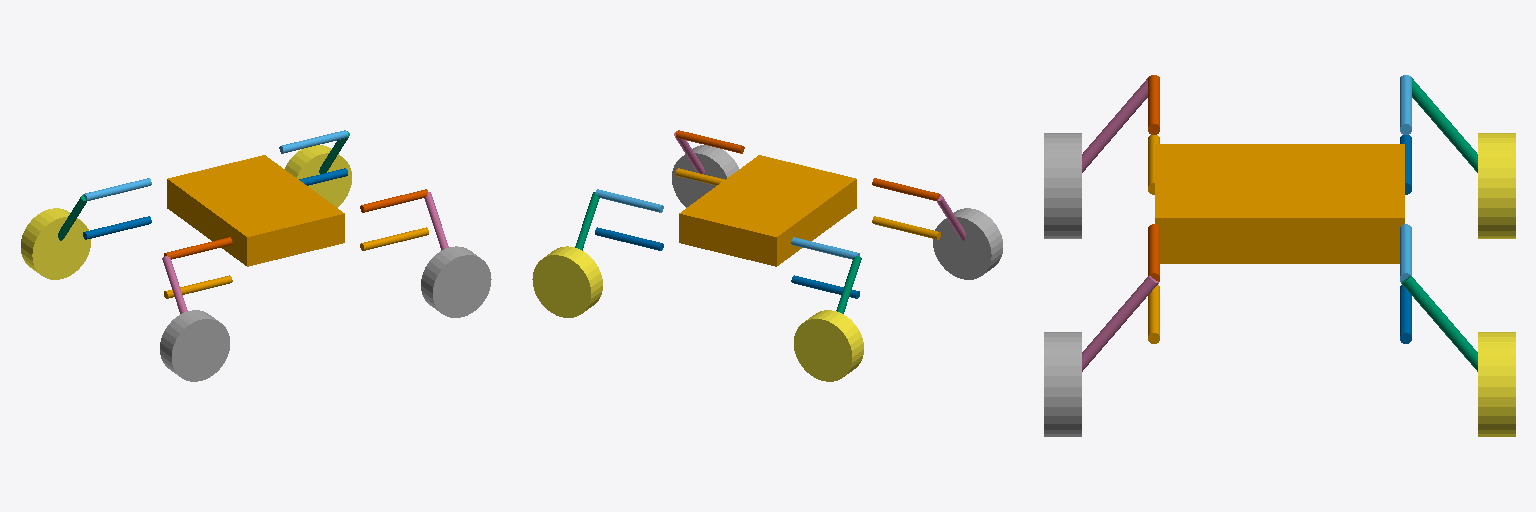
robot.urdf — q8_r5:
<?xml version='1.0' encoding='utf-8'?>
<robot name="q8_r5">
  <link name="chassis">
    <inertial>
      <origin xyz="0.00951572017 0.00478603028 0.00697343503" />
      <mass value="3.4536967088743626" />
      <inertia ixx="0.0315437633" iyy="0.0266222455" izz="0.0468839328" ixy="0" ixz="0" iyz="0" />
    </inertial>
    <visual>
      <origin xyz="0 0 -.025" />
      <geometry>
        <box size="0.166 0.236 0.048" />
      </geometry>
    </visual>
    <collision>
      <origin xyz="0 0 -.025" />
      <geometry>
        <box size="0.166 0.236 0.048" />
      </geometry>
    </collision>
  </link>
  <link name="FL_hip">
    <inertial>
      <origin xyz="0.0248203826 0.00740562072 6.86107305e-19" />
      <mass value="0.07397419543969626" />
      <inertia ixx="1.24277188e-05" iyy="0.000114291818" izz="0.000110535088" ixy="0" ixz="0" iyz="0" />
    </inertial>
    <visual>
      <origin xyz="0.055 0 0" rpy="0 1.57079633 0" />
      <geometry>
        <cylinder radius=".006" length="0.11" />
      </geometry>
    </visual>
  </link>
  <joint name="FL_hip" type="revolute">
    <origin xyz="0.112 0.119 0" />
    <parent link="chassis" />
    <child link="FL_hip" />
    <axis xyz="0 1 0" />
    <limit effort="5.2" velocity="24.3" lower="-.628318531" upper=".383972435" />
  </joint>
  <link name="FL_carrier">
    <inertial>
      <origin xyz="0.000282604071 -0.00167578647 -0.104258715" />
      <mass value="0.3951598614160262" />
      <inertia ixx="0.000932743658" iyy="0.00047375203" izz="0.000597853375" ixy="0" ixz="0" iyz="0" />
    </inertial>
    <visual>
      <origin xyz="0 0.043 -0.055" rpy="0 2.47803693 1.57079633" />
      <geometry>
        <cylinder radius=".006" length="0.1396280774056565" />
      </geometry>
    </visual>
  </link>
  <joint name="FL_carrier" type="revolute">
    <origin xyz="0.11 0 0" />
    <parent link="FL_hip" />
    <child link="FL_carrier" />
    <axis xyz="0 1 0" />
    <limit effort="0" velocity="24.3" lower="-.383972435" upper=".628318531" />
    <mimic joint="FL_hip" multiplier="-1" />
  </joint>
  <link name="FL_wheel">
    <inertial>
      <origin xyz="5.88219239e-18 -0.0155648009 0" />
      <mass value="0.1398282452833074" />
      <inertia ixx="0.000151319597" iyy="0.000108728145" izz="0.000151271597" ixy="0" ixz="0" iyz="0" />
    </inertial>
    <visual>
      <origin xyz="0 0 0" rpy="1.570796327 0 0" />
      <geometry>
        <cylinder radius=".05" length=".035" />
      </geometry>
    </visual>
    <collision>
      <origin xyz="0 0 0" rpy="1.570796327 0 0" />
      <geometry>
        <cylinder radius=".05" length=".035" />
      </geometry>
    </collision>
  </link>
  <joint name="FL_wheel" type="continuous">
    <origin xyz="0 0.086 -0.11" />
    <parent link="FL_carrier" />
    <child link="FL_wheel" />
    <axis xyz="0 1 0" />
    <limit effort="1" velocity="12.78" />
  </joint>
  <link name="FL_follower">
    <inertial>
      <origin xyz="0.055 0.013 8.31682587e-19" />
      <mass value="0.02761352064237935" />
      <inertia ixx="1.27993423e-06" iyy="4.20126029e-05" izz="4.11928941e-05" ixy="0" ixz="0" iyz="0" />
    </inertial>
    <visual>
      <origin xyz="0.055 0 0" rpy="0 1.57079633 0" />
      <geometry>
        <cylinder radius=".006" length="0.11" />
      </geometry>
    </visual>
  </link>
  <joint name="FL_follower" type="revolute">
    <origin xyz="0.112 0.119 -0.062" />
    <parent link="chassis" />
    <child link="FL_follower" />
    <axis xyz="0 1 0" />
    <limit effort="0" velocity="24.3" lower="-.628318531" upper=".383972435" />
    <mimic joint="FL_hip" multiplier="1" />
  </joint>
  <link name="FR_hip">
    <inertial>
      <origin xyz="0.0248203826 -0.00740562072 6.86107305e-19" />
      <mass value="0.07397419543969626" />
      <inertia ixx="1.24277188e-05" iyy="0.000114291818" izz="0.000110535088" ixy="0" ixz="0" iyz="0" />
    </inertial>
    <visual>
      <origin xyz="0.055 0 0" rpy="0 1.57079633 0" />
      <geometry>
        <cylinder radius=".006" length="0.11" />
      </geometry>
    </visual>
  </link>
  <joint name="FR_hip" type="revolute">
    <origin xyz="0.112 -0.119 0" />
    <parent link="chassis" />
    <child link="FR_hip" />
    <axis xyz="0 1 0" />
    <limit effort="5.2" velocity="24.3" lower="-.628318531" upper=".383972435" />
  </joint>
  <link name="FR_carrier">
    <inertial>
      <origin xyz="0.000282604071 0.00167578647 -0.104258715" />
      <mass value="0.3951598614160262" />
      <inertia ixx="0.000932743658" iyy="0.00047375203" izz="0.000597853375" ixy="0" ixz="0" iyz="0" />
    </inertial>
    <visual>
      <origin xyz="0 -0.043 -0.055" rpy="0 2.47803693 -1.57079633" />
      <geometry>
        <cylinder radius=".006" length="0.1396280774056565" />
      </geometry>
    </visual>
  </link>
  <joint name="FR_carrier" type="revolute">
    <origin xyz="0.11 0 0" />
    <parent link="FR_hip" />
    <child link="FR_carrier" />
    <axis xyz="0 1 0" />
    <limit effort="0" velocity="24.3" lower="-.383972435" upper=".628318531" />
    <mimic joint="FR_hip" multiplier="-1" />
  </joint>
  <link name="FR_wheel">
    <inertial>
      <origin xyz="5.88219239e-18 0.0155648009 0" />
      <mass value="0.1398282452833074" />
      <inertia ixx="0.000151319597" iyy="0.000108728145" izz="0.000151271597" ixy="0" ixz="0" iyz="0" />
    </inertial>
    <visual>
      <origin xyz="0 0 0" rpy="1.570796327 0 0" />
      <geometry>
        <cylinder radius=".05" length=".035" />
      </geometry>
    </visual>
    <collision>
      <origin xyz="0 0 0" rpy="1.570796327 0 0" />
      <geometry>
        <cylinder radius=".05" length=".035" />
      </geometry>
    </collision>
  </link>
  <joint name="FR_wheel" type="continuous">
    <origin xyz="0 -0.086 -0.11" />
    <parent link="FR_carrier" />
    <child link="FR_wheel" />
    <axis xyz="0 1 0" />
    <limit effort="1" velocity="12.78" />
  </joint>
  <link name="FR_follower">
    <inertial>
      <origin xyz="0.055 -0.013 8.31682587e-19" />
      <mass value="0.02761352064237935" />
      <inertia ixx="1.27993423e-06" iyy="4.20126029e-05" izz="4.11928941e-05" ixy="0" ixz="0" iyz="0" />
    </inertial>
    <visual>
      <origin xyz="0.055 0 0" rpy="0 1.57079633 0" />
      <geometry>
        <cylinder radius=".006" length="0.11" />
      </geometry>
    </visual>
  </link>
  <joint name="FR_follower" type="revolute">
    <origin xyz="0.112 -0.119 -0.062" />
    <parent link="chassis" />
    <child link="FR_follower" />
    <axis xyz="0 1 0" />
    <limit effort="0" velocity="24.3" lower="-.628318531" upper=".383972435" />
    <mimic joint="FR_hip" multiplier="1" />
  </joint>
  <link name="RL_hip">
    <inertial>
      <origin xyz="-0.0248203826 0.00740562072 6.86107305e-19" />
      <mass value="0.07397419543969626" />
      <inertia ixx="1.24277188e-05" iyy="0.000114291818" izz="0.000110535088" ixy="0" ixz="0" iyz="0" />
    </inertial>
    <visual>
      <origin xyz="-0.055 0 0" rpy="0 1.57079633 3.14159265" />
      <geometry>
        <cylinder radius=".006" length="0.11" />
      </geometry>
    </visual>
  </link>
  <joint name="RL_hip" type="revolute">
    <origin xyz="-0.112 0.119 0" />
    <parent link="chassis" />
    <child link="RL_hip" />
    <axis xyz="0 -1 0" />
    <limit effort="5.2" velocity="24.3" lower="-.628318531" upper=".383972435" />
  </joint>
  <link name="RL_carrier">
    <inertial>
      <origin xyz="-0.000282604071 -0.00167578647 -0.104258715" />
      <mass value="0.3951598614160262" />
      <inertia ixx="0.000932743658" iyy="0.00047375203" izz="0.000597853375" ixy="0" ixz="0" iyz="0" />
    </inertial>
    <visual>
      <origin xyz="0 0.043 -0.055" rpy="0 2.47803693 1.57079633" />
      <geometry>
        <cylinder radius=".006" length="0.1396280774056565" />
      </geometry>
    </visual>
  </link>
  <joint name="RL_carrier" type="revolute">
    <origin xyz="-0.11 0 0" />
    <parent link="RL_hip" />
    <child link="RL_carrier" />
    <axis xyz="0 -1 0" />
    <limit effort="0" velocity="24.3" lower="-.383972435" upper=".628318531" />
    <mimic joint="RL_hip" multiplier="-1" />
  </joint>
  <link name="RL_wheel">
    <inertial>
      <origin xyz="-5.88219239e-18 -0.0155648009 0" />
      <mass value="0.1398282452833074" />
      <inertia ixx="0.000151319597" iyy="0.000108728145" izz="0.000151271597" ixy="0" ixz="0" iyz="0" />
    </inertial>
    <visual>
      <origin xyz="0 0 0" rpy="1.570796327 0 0" />
      <geometry>
        <cylinder radius=".05" length=".035" />
      </geometry>
    </visual>
    <collision>
      <origin xyz="0 0 0" rpy="1.570796327 0 0" />
      <geometry>
        <cylinder radius=".05" length=".035" />
      </geometry>
    </collision>
  </link>
  <joint name="RL_wheel" type="continuous">
    <origin xyz="0 0.086 -0.11" />
    <parent link="RL_carrier" />
    <child link="RL_wheel" />
    <axis xyz="0 1 0" />
    <limit effort="1" velocity="12.78" />
  </joint>
  <link name="RL_follower">
    <inertial>
      <origin xyz="-0.055 0.013 8.31682587e-19" />
      <mass value="0.02761352064237935" />
      <inertia ixx="1.27993423e-06" iyy="4.20126029e-05" izz="4.11928941e-05" ixy="0" ixz="0" iyz="0" />
    </inertial>
    <visual>
      <origin xyz="-0.055 0 0" rpy="0 1.57079633 3.14159265" />
      <geometry>
        <cylinder radius=".006" length="0.11" />
      </geometry>
    </visual>
  </link>
  <joint name="RL_follower" type="revolute">
    <origin xyz="-0.112 0.119 -0.062" />
    <parent link="chassis" />
    <child link="RL_follower" />
    <axis xyz="0 -1 0" />
    <limit effort="0" velocity="24.3" lower="-.628318531" upper=".383972435" />
    <mimic joint="RL_hip" multiplier="1" />
  </joint>
  <link name="RR_hip">
    <inertial>
      <origin xyz="-0.0248203826 -0.00740562072 6.86107305e-19" />
      <mass value="0.07397419543969626" />
      <inertia ixx="1.24277188e-05" iyy="0.000114291818" izz="0.000110535088" ixy="0" ixz="0" iyz="0" />
    </inertial>
    <visual>
      <origin xyz="-0.055 0 0" rpy="0 1.57079633 3.14159265" />
      <geometry>
        <cylinder radius=".006" length="0.11" />
      </geometry>
    </visual>
  </link>
  <joint name="RR_hip" type="revolute">
    <origin xyz="-0.112 -0.119 0" />
    <parent link="chassis" />
    <child link="RR_hip" />
    <axis xyz="0 -1 0" />
    <limit effort="5.2" velocity="24.3" lower="-.628318531" upper=".383972435" />
  </joint>
  <link name="RR_carrier">
    <inertial>
      <origin xyz="-0.000282604071 0.00167578647 -0.104258715" />
      <mass value="0.3951598614160262" />
      <inertia ixx="0.000932743658" iyy="0.00047375203" izz="0.000597853375" ixy="0" ixz="0" iyz="0" />
    </inertial>
    <visual>
      <origin xyz="0 -0.043 -0.055" rpy="0 2.47803693 -1.57079633" />
      <geometry>
        <cylinder radius=".006" length="0.1396280774056565" />
      </geometry>
    </visual>
  </link>
  <joint name="RR_carrier" type="revolute">
    <origin xyz="-0.11 0 0" />
    <parent link="RR_hip" />
    <child link="RR_carrier" />
    <axis xyz="0 -1 0" />
    <limit effort="0" velocity="24.3" lower="-.383972435" upper=".628318531" />
    <mimic joint="RR_hip" multiplier="-1" />
  </joint>
  <link name="RR_wheel">
    <inertial>
      <origin xyz="-5.88219239e-18 0.0155648009 0" />
      <mass value="0.1398282452833074" />
      <inertia ixx="0.000151319597" iyy="0.000108728145" izz="0.000151271597" ixy="0" ixz="0" iyz="0" />
    </inertial>
    <visual>
      <origin xyz="0 0 0" rpy="1.570796327 0 0" />
      <geometry>
        <cylinder radius=".05" length=".035" />
      </geometry>
    </visual>
    <collision>
      <origin xyz="0 0 0" rpy="1.570796327 0 0" />
      <geometry>
        <cylinder radius=".05" length=".035" />
      </geometry>
    </collision>
  </link>
  <joint name="RR_wheel" type="continuous">
    <origin xyz="0 -0.086 -0.11" />
    <parent link="RR_carrier" />
    <child link="RR_wheel" />
    <axis xyz="0 1 0" />
    <limit effort="1" velocity="12.78" />
  </joint>
  <link name="RR_follower">
    <inertial>
      <origin xyz="-0.055 -0.013 8.31682587e-19" />
      <mass value="0.02761352064237935" />
      <inertia ixx="1.27993423e-06" iyy="4.20126029e-05" izz="4.11928941e-05" ixy="0" ixz="0" iyz="0" />
    </inertial>
    <visual>
      <origin xyz="-0.055 0 0" rpy="0 1.57079633 3.14159265" />
      <geometry>
        <cylinder radius=".006" length="0.11" />
      </geometry>
    </visual>
  </link>
  <joint name="RR_follower" type="revolute">
    <origin xyz="-0.112 -0.119 -0.062" />
    <parent link="chassis" />
    <child link="RR_follower" />
    <axis xyz="0 -1 0" />
    <limit effort="0" velocity="24.3" lower="-.628318531" upper=".383972435" />
    <mimic joint="RR_hip" multiplier="1" />
  </joint>
</robot>

--- What the picture shows (computed from the rendered views, not written in the file) ---
Views: 3 orthographic renders of the robot side by side, from view 1: azimuth 30°, elevation 25°; view 2: azimuth 150°, elevation 25°; view 3: azimuth 270°, elevation 25°.
Robot: q8_r5 — 17 links, 16 joints (12 revolute, 4 continuous); root link chassis; default pose: every joint at zero.
Links seen in each view (by area): view 1: chassis, RR_wheel, FR_wheel, RL_wheel, FL_wheel, FR_follower, RL_follower, FL_hip, FR_hip, RL_hip, RR_hip; view 2: chassis, RL_wheel, FL_wheel, RR_wheel, FR_wheel, FL_follower, RR_follower, FR_hip, FL_hip, RR_hip, RL_hip; view 3: chassis, RL_wheel, RR_wheel, FL_wheel, FR_wheel, FL_carrier, FR_carrier, RL_carrier, RR_carrier, RL_hip, RR_hip, FL_follower (+3 smaller).
Link boxes in pixels (bbox=[...]): chassis: bbox=[167, 155, 344, 266]; RR_wheel: bbox=[160, 310, 229, 381]; FR_wheel: bbox=[421, 246, 491, 317]; RL_wheel: bbox=[21, 208, 90, 279]; FL_wheel: bbox=[285, 145, 351, 207]; FR_follower: bbox=[360, 227, 428, 250]; RL_follower: bbox=[83, 216, 151, 239]; FL_hip: bbox=[279, 130, 347, 153]; FR_hip: bbox=[360, 189, 427, 212]; RL_hip: bbox=[84, 178, 151, 200]; RR_hip: bbox=[164, 237, 232, 259]; chassis: bbox=[679, 155, 856, 266]; RL_wheel: bbox=[794, 310, 863, 381]; FL_wheel: bbox=[532, 246, 602, 317]; RR_wheel: bbox=[933, 208, 1002, 279]; FR_wheel: bbox=[672, 145, 738, 207]; FL_follower: bbox=[595, 227, 663, 250]; RR_follower: bbox=[872, 216, 940, 239]; FR_hip: bbox=[676, 130, 744, 153]; FL_hip: bbox=[596, 189, 663, 212]; RR_hip: bbox=[872, 178, 939, 200]; RL_hip: bbox=[791, 237, 859, 259]; chassis: bbox=[1155, 144, 1404, 263]; RL_wheel: bbox=[1478, 133, 1515, 238]; RR_wheel: bbox=[1044, 133, 1081, 238]; FL_wheel: bbox=[1478, 332, 1515, 436]; FR_wheel: bbox=[1044, 332, 1081, 436]; FL_carrier: bbox=[1401, 276, 1477, 371]; FR_carrier: bbox=[1082, 276, 1158, 371]; RL_carrier: bbox=[1411, 77, 1477, 172]; RR_carrier: bbox=[1082, 77, 1148, 172]; RL_hip: bbox=[1400, 75, 1411, 134]; RR_hip: bbox=[1148, 75, 1159, 134]; FL_follower: bbox=[1400, 285, 1411, 343].
Bounding box of the posed robot: 0.544 × 0.445 × 0.166 m (x, y, z).
Geometry: primitives only (box / cylinder / sphere), no mesh files.
